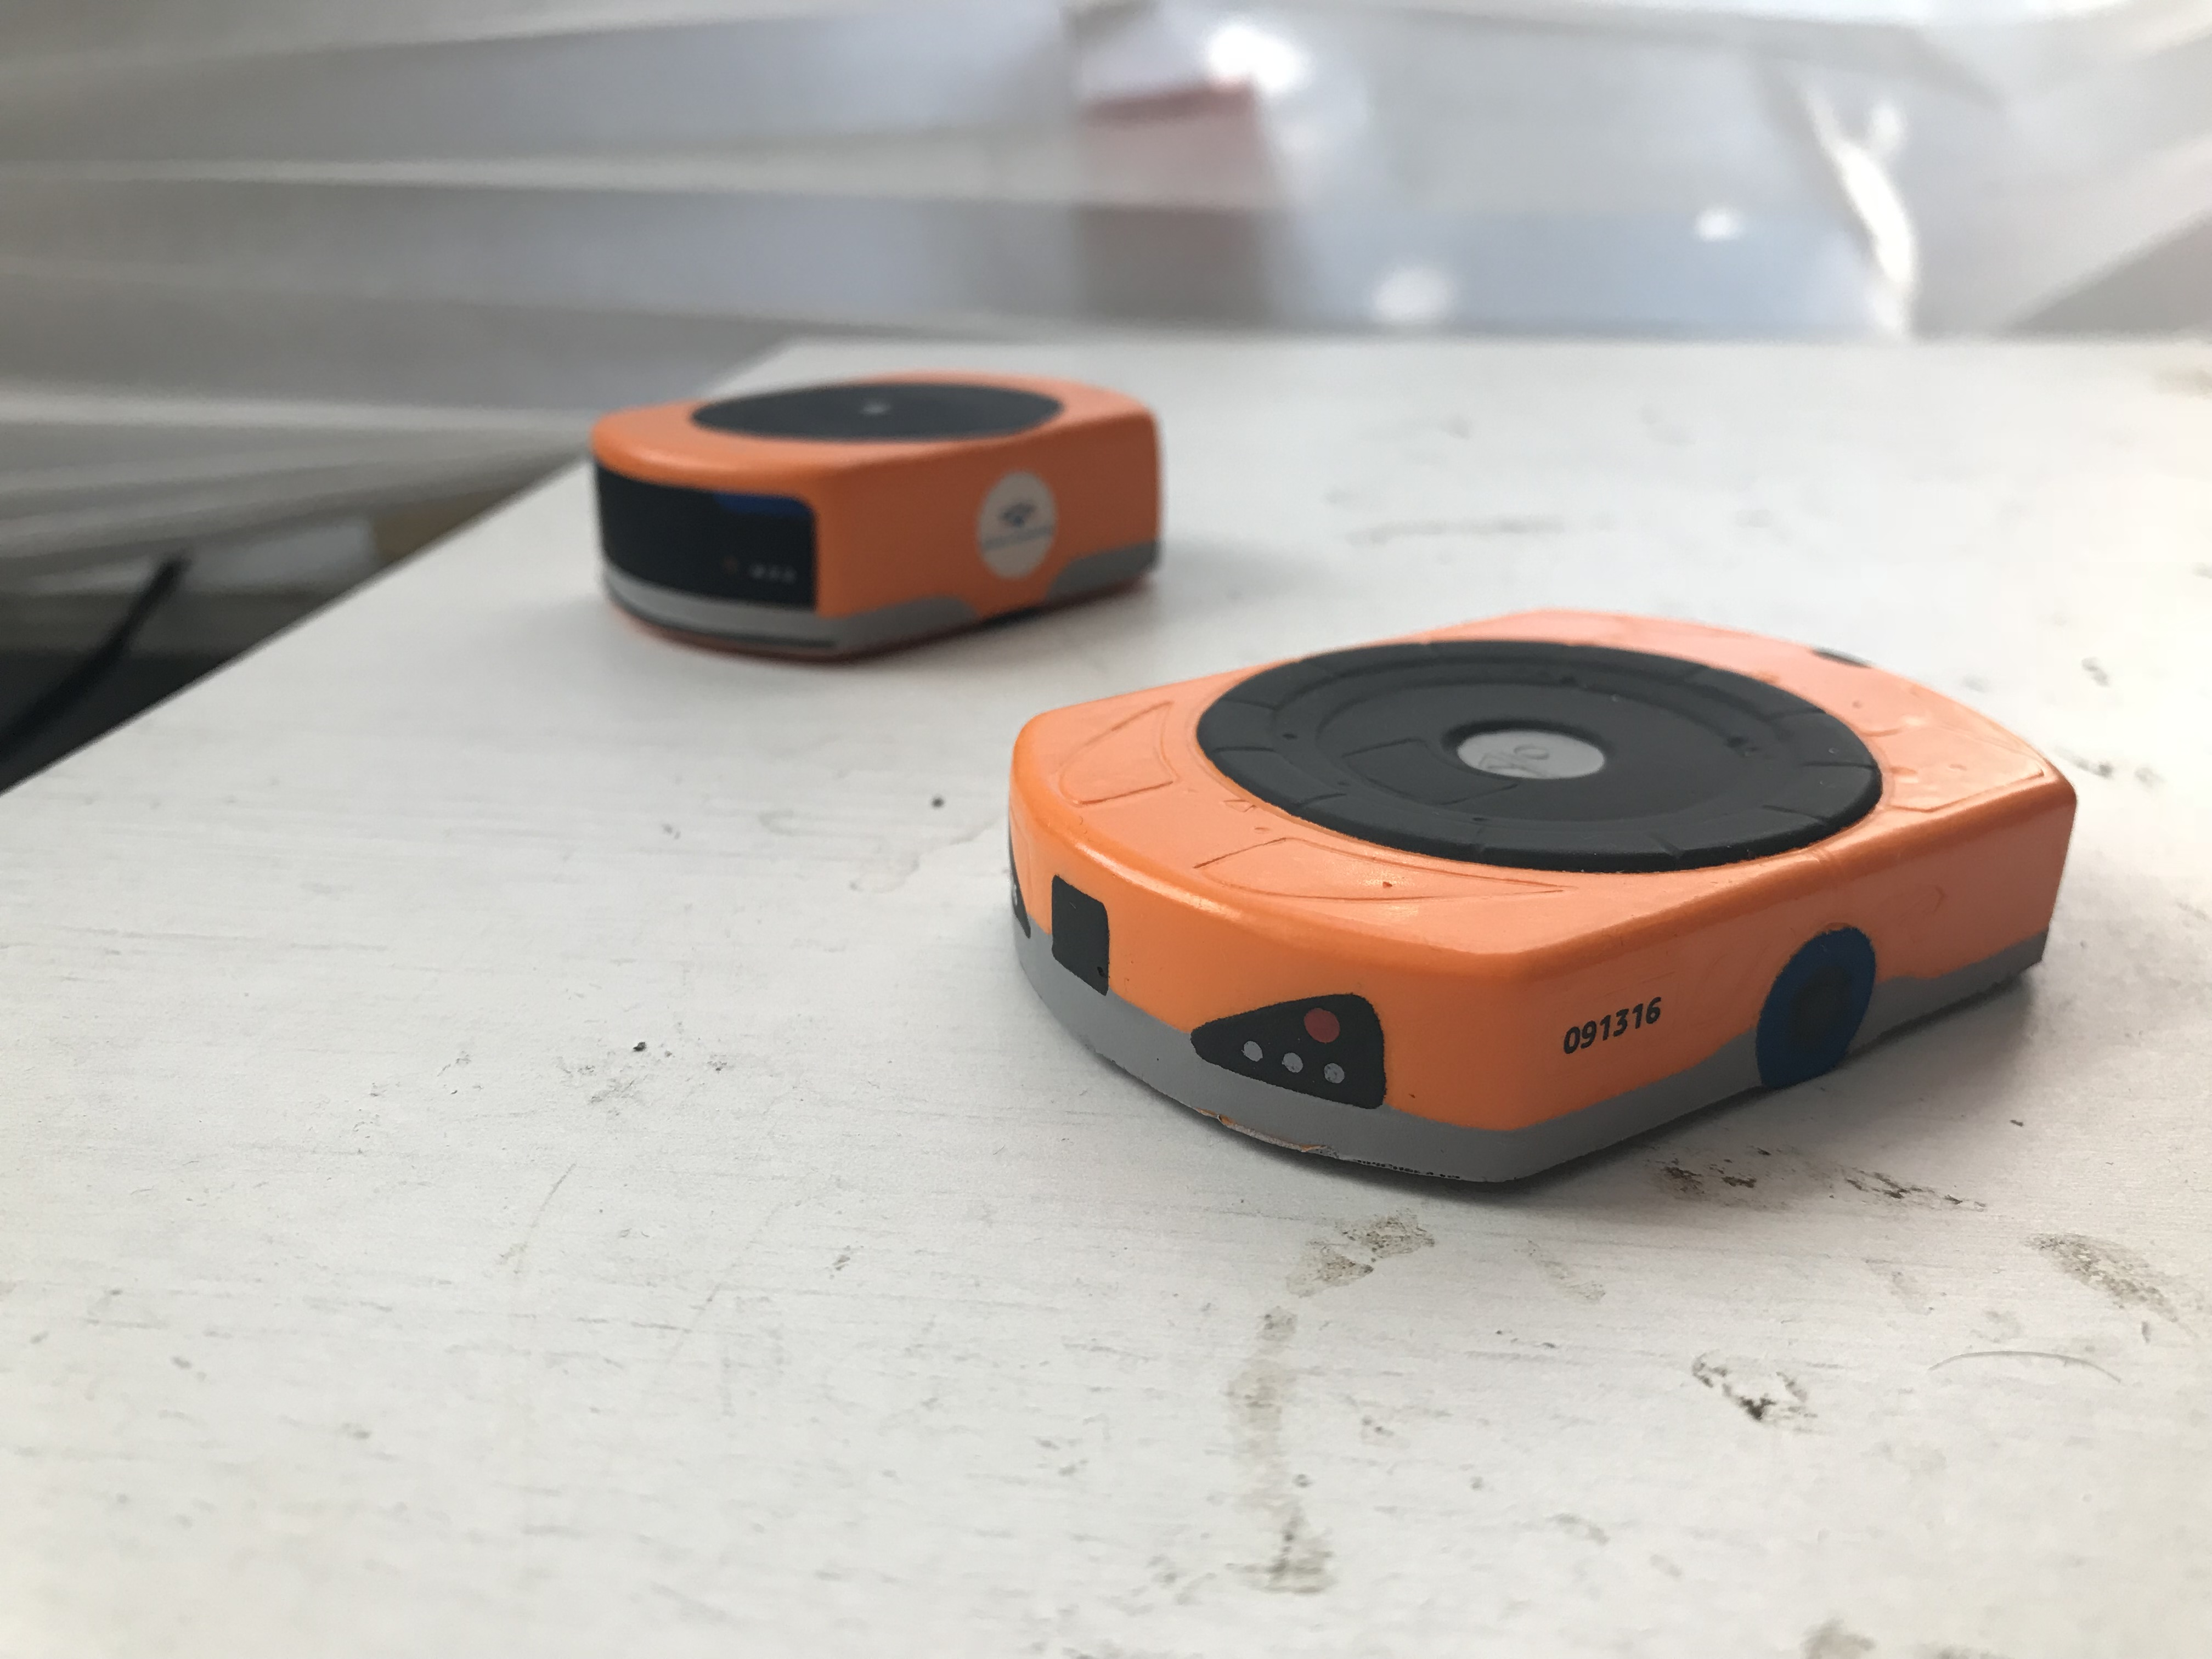amazon_bot: (958, 610, 2085, 1202), (507, 352, 1167, 660)
